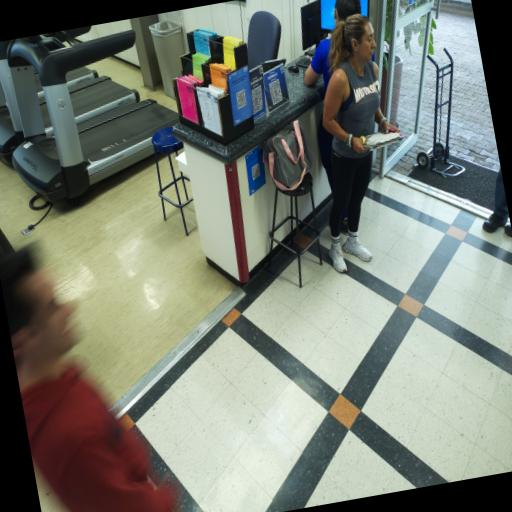person: (0, 250, 175, 511), (322, 15, 397, 272), (482, 169, 511, 237), (317, 119, 332, 193)
